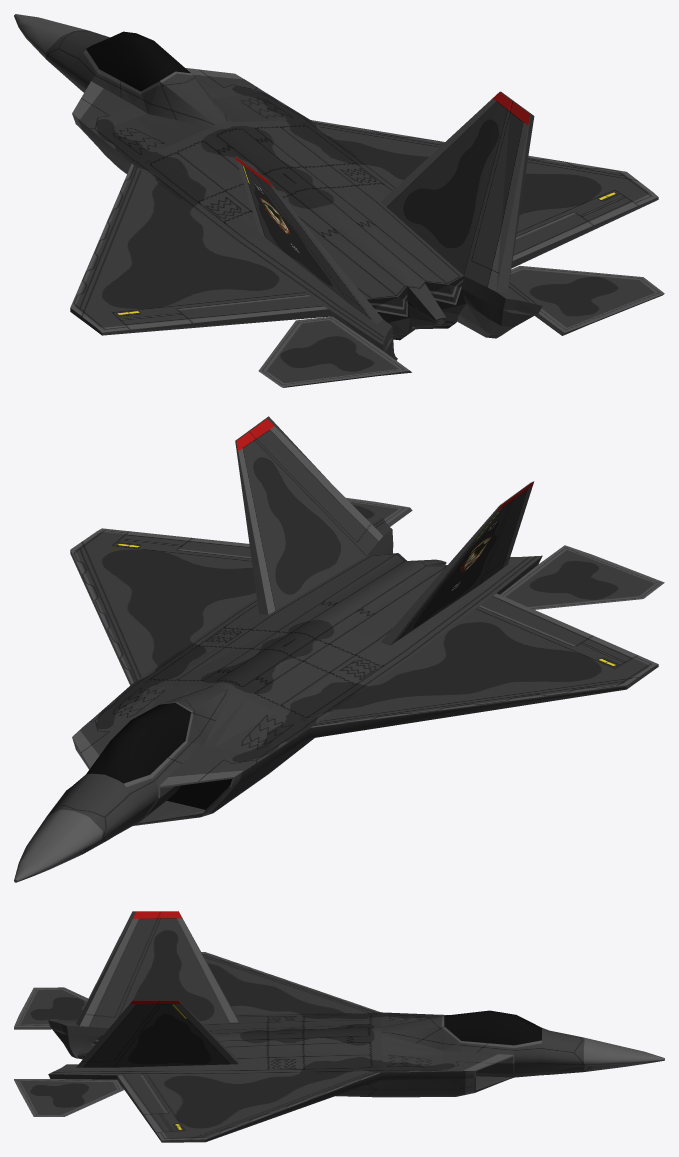
The model's file is F22_Raptor.fbx.
The picture shows the model from 3 angles, top to bottom: view 1: azimuth 30°, elevation 25°; view 2: azimuth 150°, elevation 25°; view 3: azimuth 270°, elevation 25°; orthographic projection. The views are drawn at different scales.
Parts seen in each view (by area): view 1: Cylinder001; view 2: Cylinder001; view 3: Cylinder001.
Part boxes in pixels (<box>): Cylinder001: <box>14,14,664,387</box>; Cylinder001: <box>14,416,664,882</box>; Cylinder001: <box>14,911,664,1142</box>.
Bounding box in the file's own units: 859 × 268 × 1261.
Materials: 6 (6 with a texture image).
